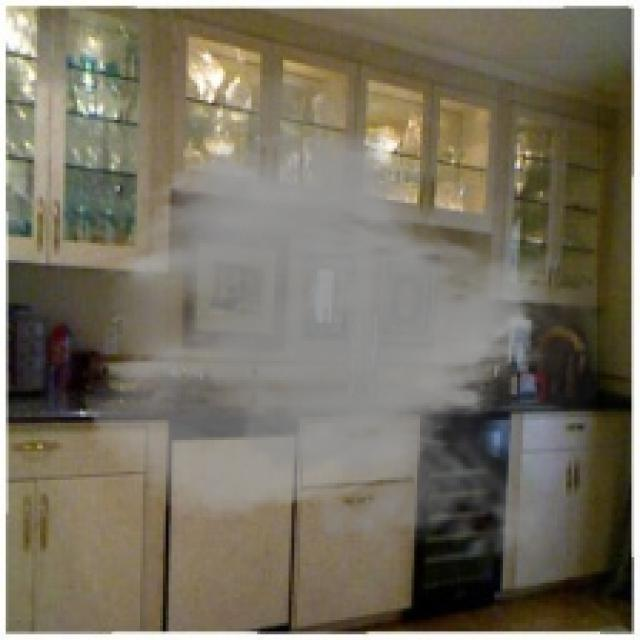Smoke: (80, 59, 597, 574)
